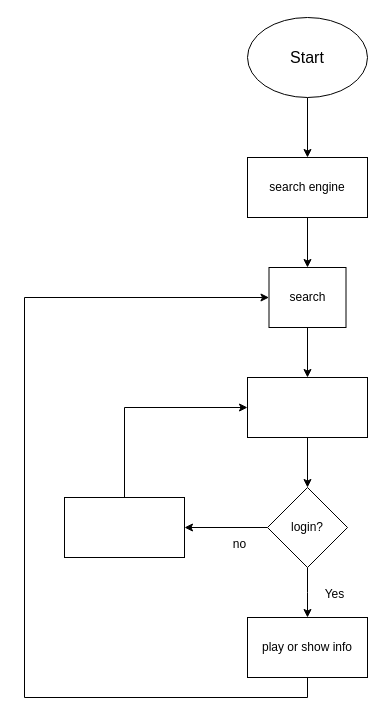
The diagram is 385 pixels wide and 723 high, and some of its shapes have lost their labels. The shapes that lost their labels are listed below. From the top down, each one's centre as x and y in pixels, then its label:
At pixel 307 407: "display content".
At pixel 124 527: "register or login".
